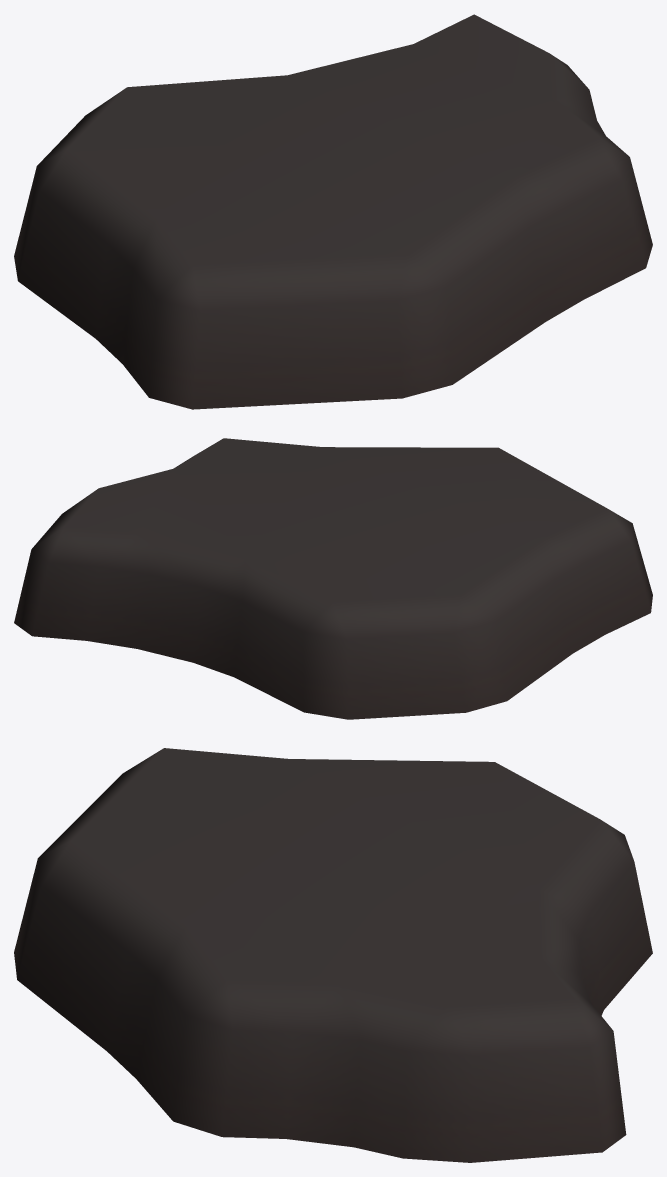
File: Stone_005.glb
3 renders of one model, top to bottom at view 1: azimuth 30°, elevation 25°; view 2: azimuth 150°, elevation 25°; view 3: azimuth 270°, elevation 25°, orthographic. The views are drawn at different scales.
Parts seen in each view (by area): view 1: Stone_005; view 2: Stone_005; view 3: Stone_005.
Part boxes in pixels (x1,y1,x2,y2): Stone_005: (14,14,652,409); Stone_005: (14,438,652,719); Stone_005: (14,748,652,1162).
Size of the model in its own units: 4.35 by 0.8375 by 3.76.
Materials: 1 (1 with a texture image).
